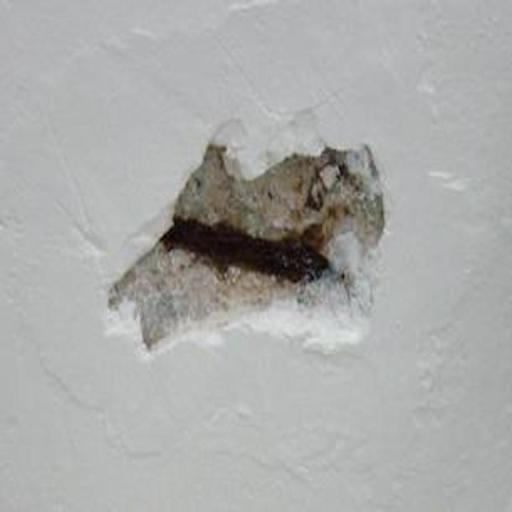spalling: (108, 136, 390, 361)
